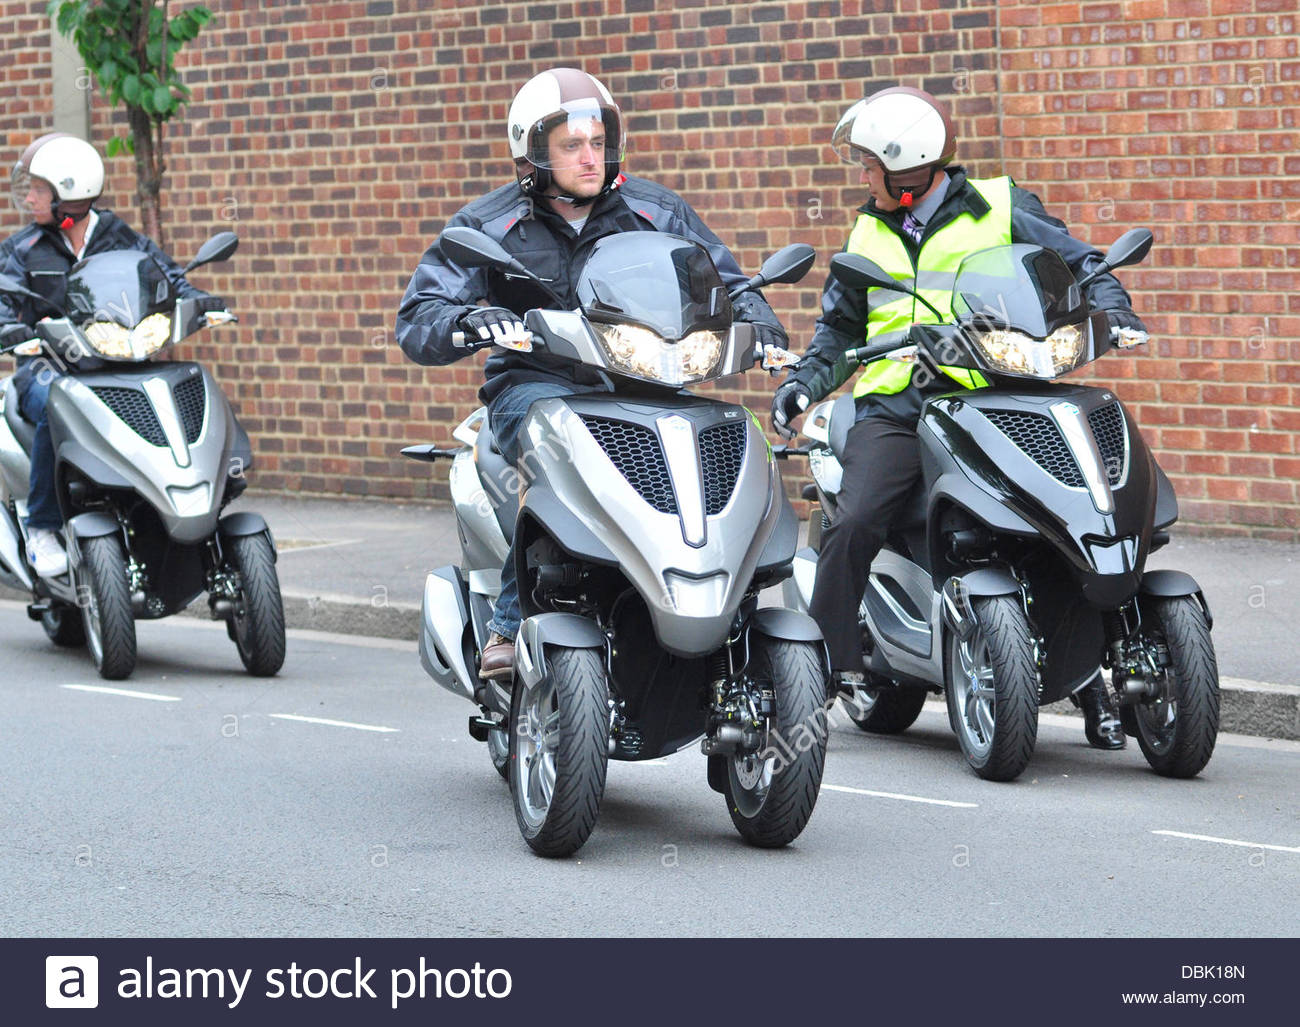helmet: (816, 78, 971, 216), (492, 66, 639, 208), (4, 128, 98, 249)
